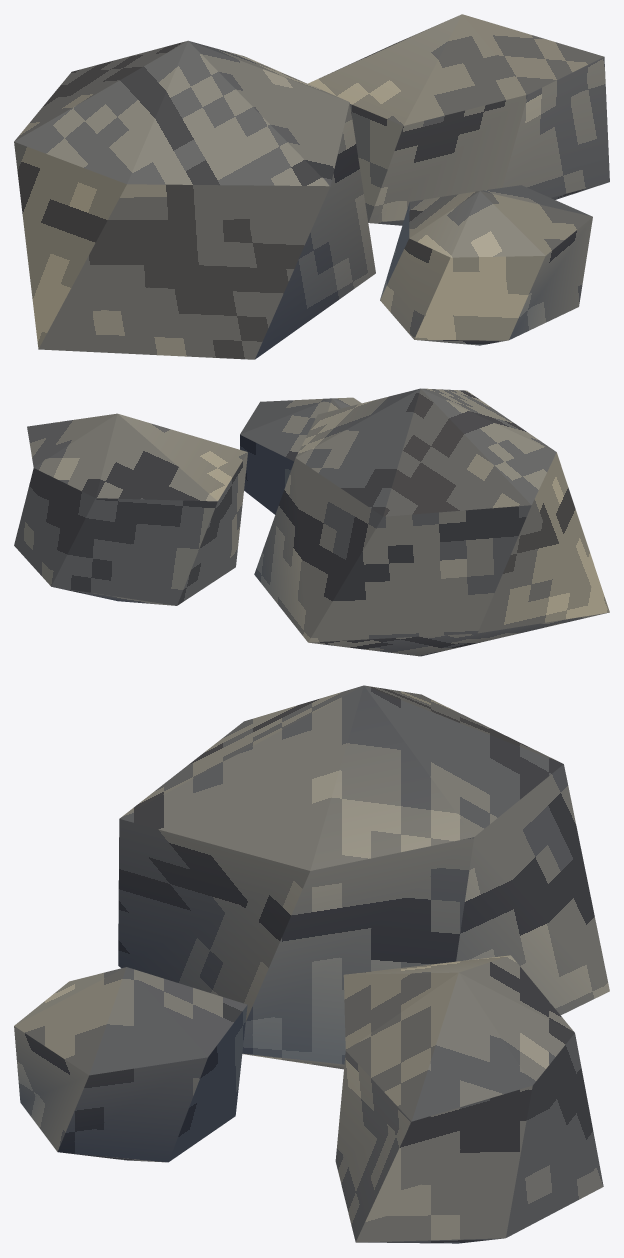
Rendered from mnat.rock__cluster.glb.
The picture shows the model from 3 angles, top to bottom: view 1: azimuth 30°, elevation 25°; view 2: azimuth 150°, elevation 25°; view 3: azimuth 270°, elevation 25°; orthographic projection. The views are drawn at different scales.
Parts seen in each view (by area): view 1: kit_rock; view 2: kit_rock; view 3: kit_rock.
Part boxes in pixels (left/top/right/bottom): kit_rock: left=14, top=14, right=609, bottom=359; kit_rock: left=14, top=388, right=609, bottom=656; kit_rock: left=14, top=685, right=609, bottom=1243.
Bounding box in the file's own units: 1.89 × 0.9 × 1.26.
1 material, 1 textured.
